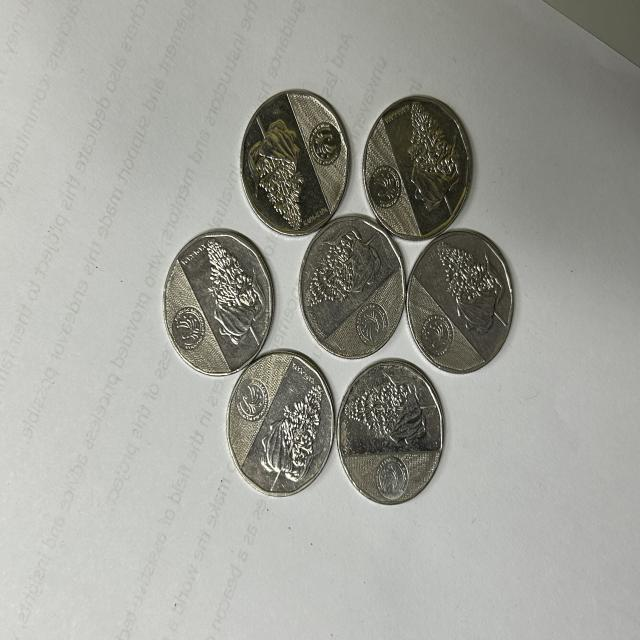10_New_Back: (247, 374, 329, 493), (395, 83, 467, 216), (240, 102, 314, 228), (198, 237, 268, 353), (432, 239, 510, 343), (341, 371, 430, 455), (299, 230, 380, 322)
